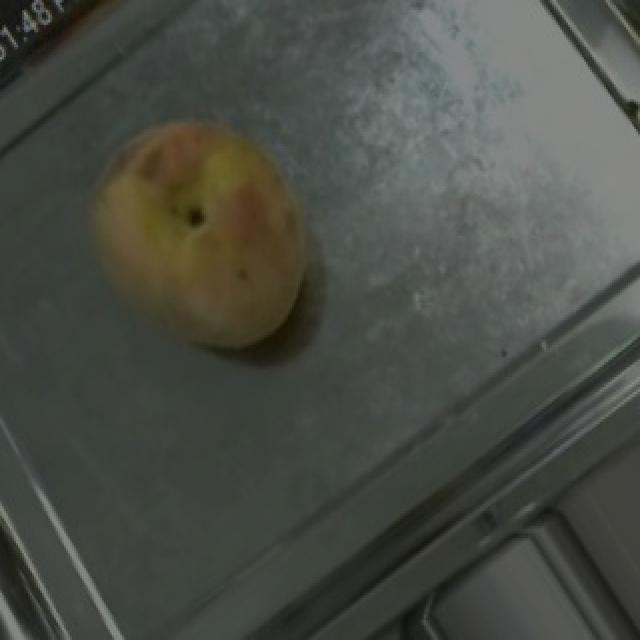Fruit: (44, 74, 358, 387)
